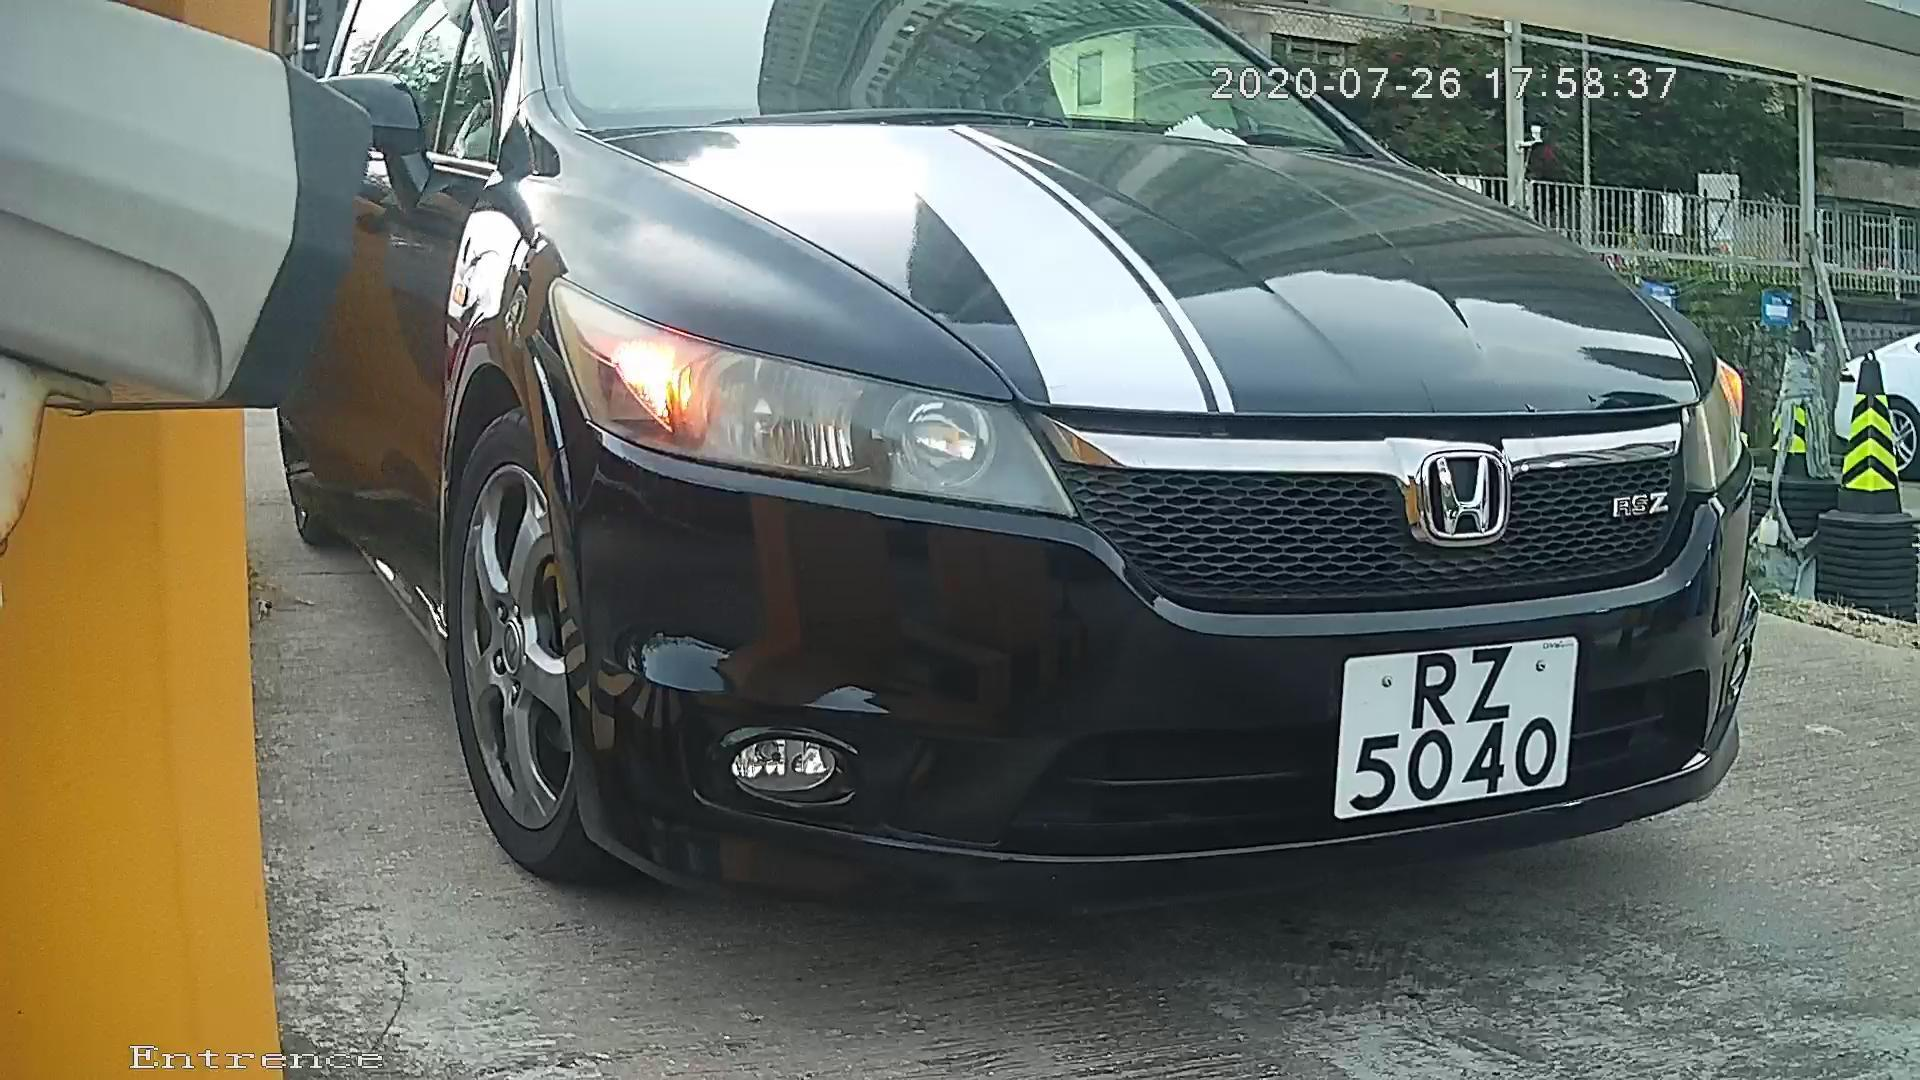License Plate: (1312, 618, 1586, 830)
